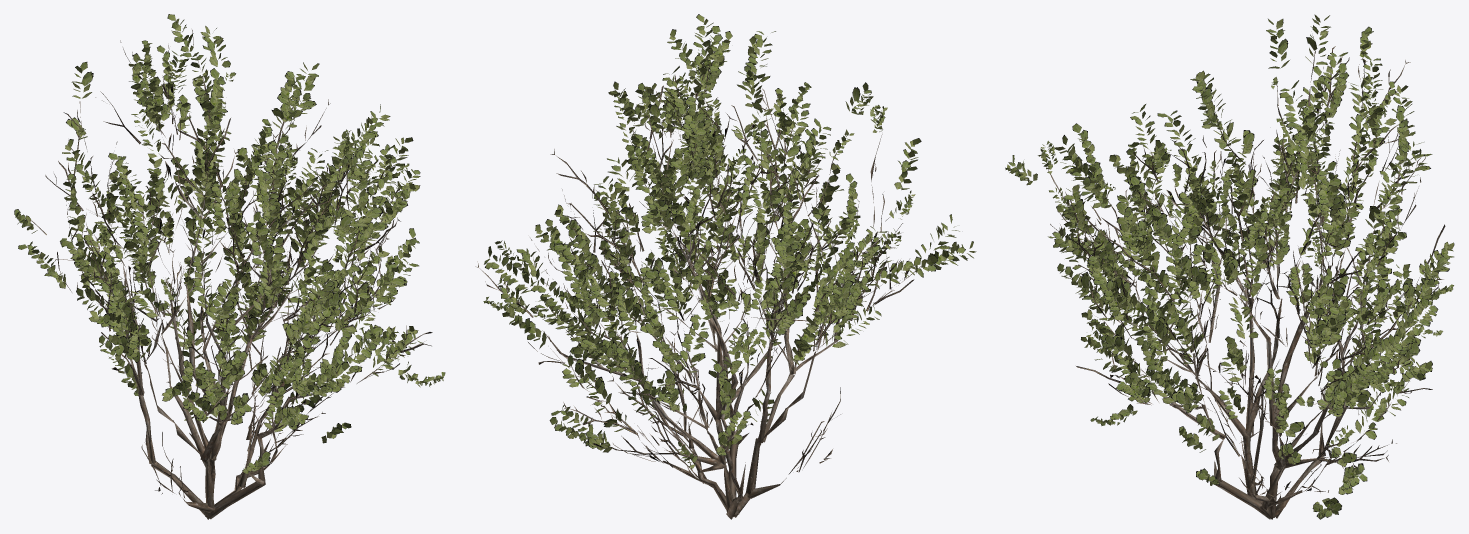
Rendered from shrub_searsia.glb.
3 renders of one model, left to right at view 1: azimuth 30°, elevation 25°; view 2: azimuth 150°, elevation 25°; view 3: azimuth 270°, elevation 25°, orthographic. The views are drawn at different scales.
Parts seen in each view (by area): view 1: searsia_lucida_a_LOD0; view 2: searsia_lucida_a_LOD0; view 3: searsia_lucida_a_LOD0.
Part boxes in pixels (x1,y1,x2,y2): searsia_lucida_a_LOD0: (14,14,445,519); searsia_lucida_a_LOD0: (475,14,976,519); searsia_lucida_a_LOD0: (1005,14,1454,519).
Bounding box in the file's own units: 1.84 × 2.39 × 1.93.
3 materials, 3 textured.
